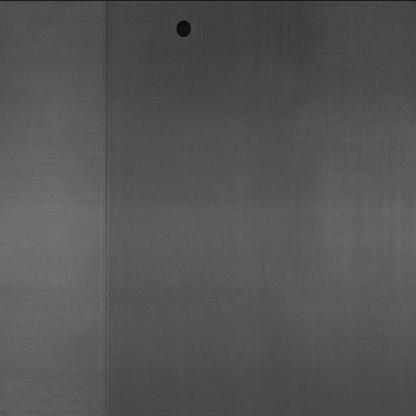punching_hole: (172, 17, 197, 39)
welding_line: (90, 1, 122, 414)
